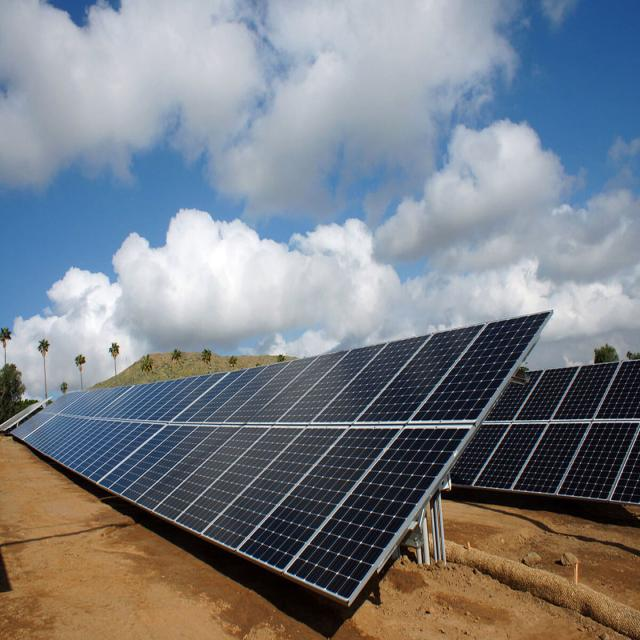clean-solar-panel: (15, 311, 551, 604), (559, 424, 638, 500)
